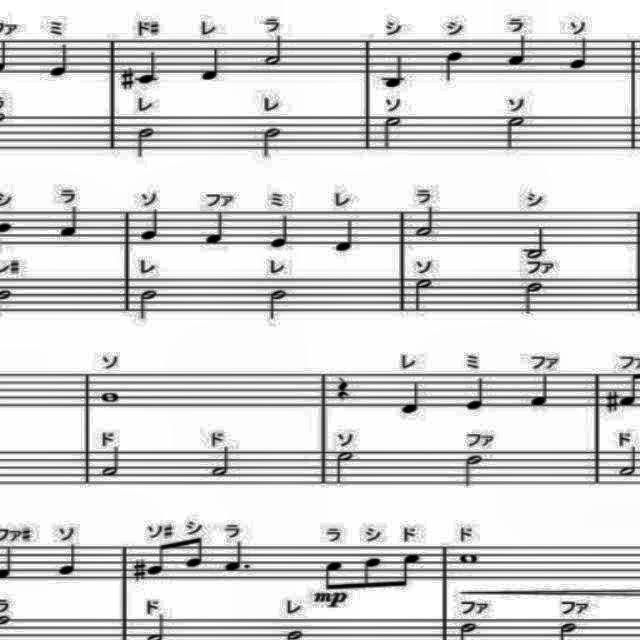Diez: (115, 64, 136, 96), (130, 556, 148, 588), (602, 387, 622, 415)
Eighth-note: (145, 540, 177, 580), (180, 535, 212, 573), (394, 549, 422, 591), (318, 556, 347, 592), (360, 554, 384, 594)
Full-note: (99, 388, 125, 408), (456, 550, 479, 566)
Half-note: (260, 286, 294, 328), (498, 112, 530, 152), (410, 276, 442, 316), (380, 113, 408, 157), (135, 284, 165, 324), (457, 450, 487, 490), (520, 225, 550, 263), (326, 446, 356, 484), (98, 440, 124, 480), (134, 123, 160, 161), (524, 280, 548, 320), (210, 442, 236, 478), (260, 122, 284, 160), (413, 204, 437, 242), (262, 36, 288, 68), (616, 444, 636, 481)
Quarter-dot: (224, 537, 256, 575)
Quarter-note: (132, 45, 164, 87), (399, 378, 429, 422), (46, 38, 74, 84), (526, 370, 558, 410), (198, 207, 228, 249), (265, 211, 295, 253), (328, 213, 358, 255), (381, 50, 412, 90), (461, 372, 492, 412), (198, 43, 226, 87), (54, 538, 82, 578), (136, 203, 164, 241), (440, 48, 468, 84), (58, 206, 84, 244), (567, 35, 593, 73), (508, 34, 532, 70)
Quarter-rest: (334, 378, 354, 404)
